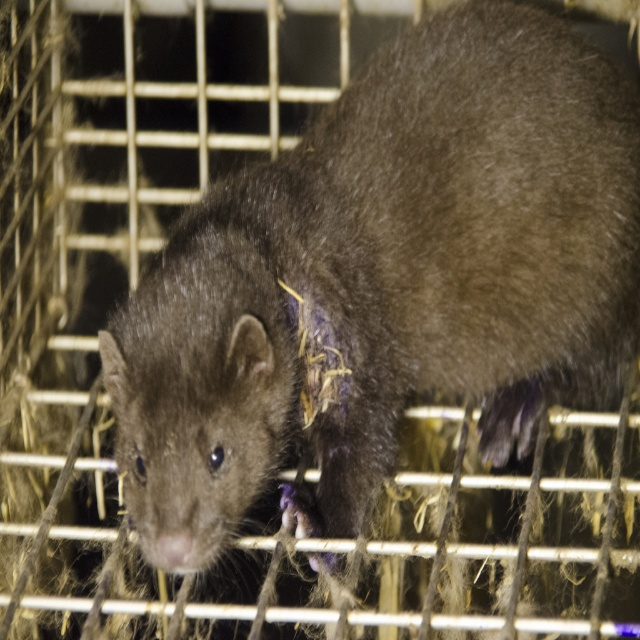Hamster: (79, 0, 640, 640)
